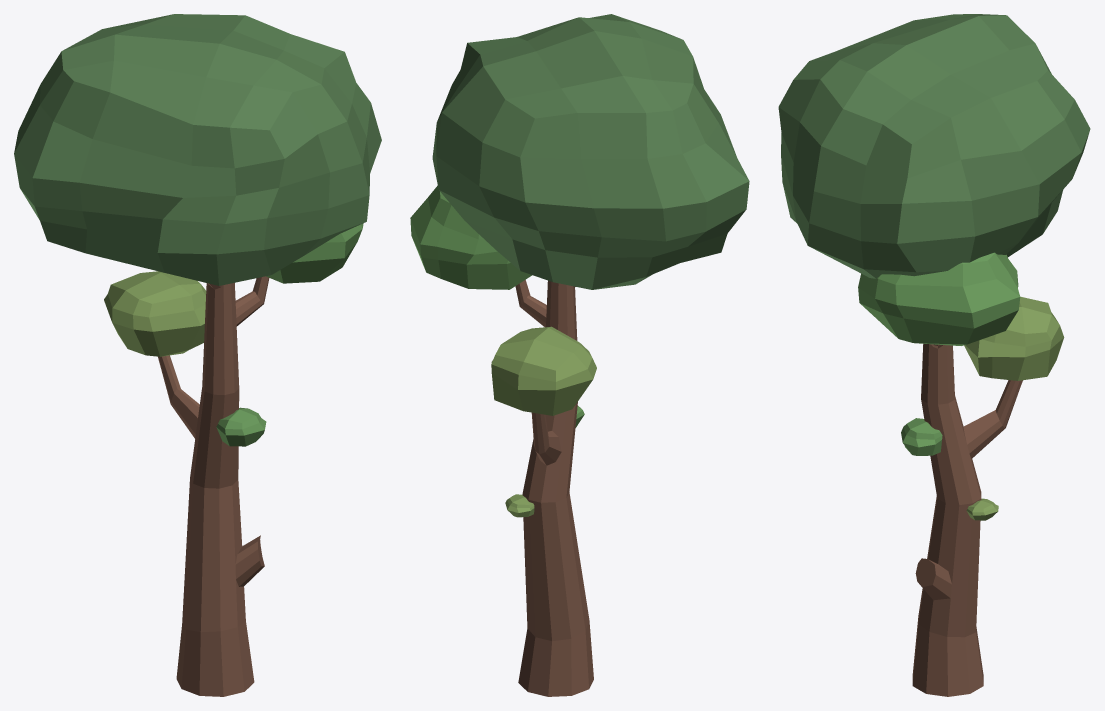
The model's file is Boom.fbx.
The picture shows the model from 3 angles, left to right: view 1: azimuth 30°, elevation 25°; view 2: azimuth 150°, elevation 25°; view 3: azimuth 270°, elevation 25°; orthographic projection. The views are drawn at different scales.
Parts seen in each view (by area): view 1: pCube2, pCylinder1, pCube3, pCube1, pCube4; view 2: pCube2, pCylinder1, pCube3, pCube1, pCube5; view 3: pCube2, pCylinder1, pCube1, pCube3, pCube4, pCube5.
Boxes of the visible parts, x1,y1,x2,y2 form: pCube2: (14, 14, 381, 285); pCylinder1: (158, 276, 269, 696); pCube3: (104, 271, 206, 356); pCube1: (266, 223, 363, 283); pCube4: (216, 407, 266, 446); pCube2: (432, 14, 749, 289); pCylinder1: (515, 280, 593, 696); pCube3: (491, 326, 596, 415); pCube1: (410, 185, 531, 289); pCube5: (505, 494, 534, 517); pCube2: (778, 14, 1090, 278); pCylinder1: (912, 343, 1022, 696); pCube1: (858, 252, 1020, 345); pCube3: (964, 296, 1064, 380); pCube4: (901, 418, 942, 455); pCube5: (966, 498, 998, 520).
Bounding box in the file's own units: 11.89 × 22.57 × 10.17.
